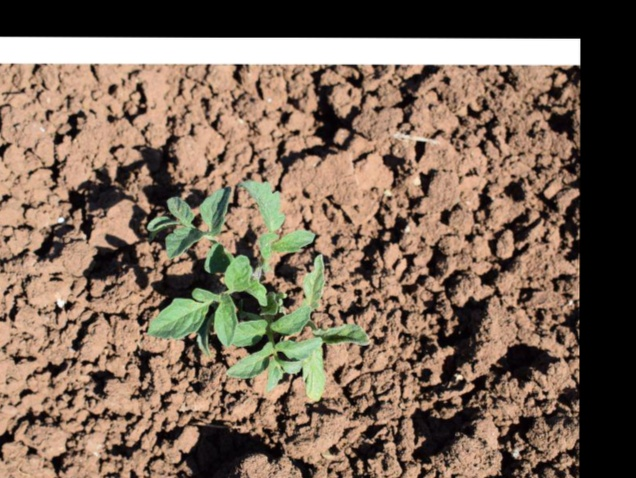tomato: (146, 177, 373, 401)
